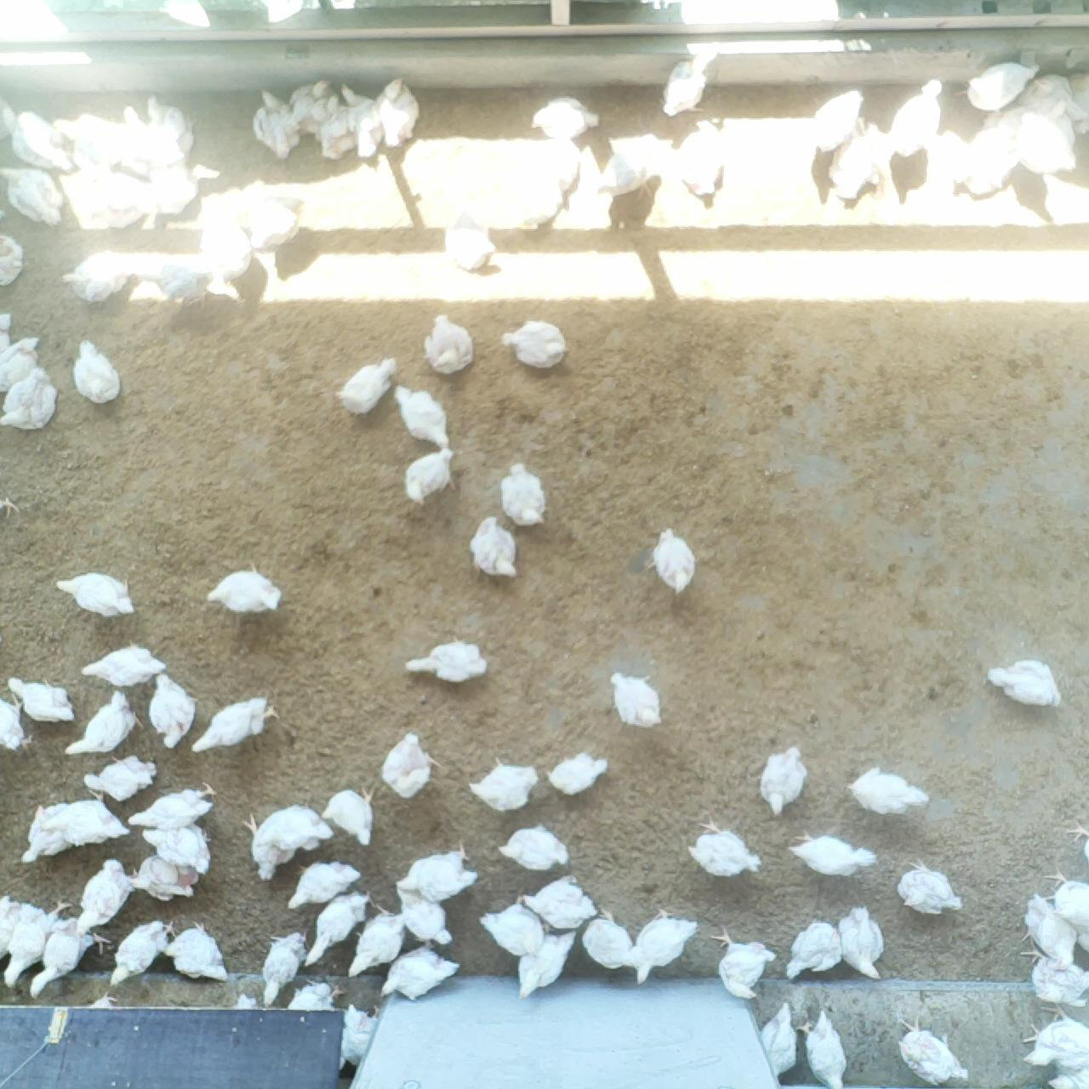chicken: (251, 805, 332, 882), (31, 921, 105, 997), (3, 905, 65, 988), (900, 1015, 970, 1086), (67, 691, 140, 759), (192, 699, 277, 755), (636, 907, 697, 984), (396, 849, 481, 903), (306, 894, 368, 967), (887, 80, 943, 160), (672, 117, 724, 203), (2, 103, 69, 168), (593, 140, 663, 200), (953, 123, 1012, 194), (126, 783, 215, 830), (1, 163, 65, 228), (716, 927, 773, 999), (506, 160, 566, 227), (380, 946, 461, 995), (1014, 109, 1075, 174), (787, 832, 875, 877), (845, 770, 929, 817), (110, 921, 169, 987), (662, 46, 716, 118), (687, 824, 760, 877), (77, 861, 129, 935), (349, 911, 407, 977), (528, 136, 586, 200), (830, 126, 880, 200), (517, 879, 594, 927), (381, 735, 436, 802), (54, 573, 134, 619), (530, 95, 603, 145), (442, 212, 498, 277), (337, 86, 384, 163), (801, 1007, 845, 1089), (1024, 897, 1076, 966), (240, 188, 296, 252), (989, 661, 1062, 710), (1018, 77, 1088, 128), (583, 906, 637, 972), (140, 826, 214, 874), (470, 757, 537, 809), (207, 568, 282, 614), (164, 931, 230, 983), (199, 220, 257, 279), (394, 385, 450, 445), (518, 936, 574, 996), (841, 907, 885, 983), (897, 864, 961, 916), (970, 63, 1037, 112), (83, 646, 167, 685), (133, 164, 201, 212), (55, 113, 117, 165), (408, 641, 488, 681), (150, 676, 194, 748), (395, 890, 451, 946), (1032, 953, 1089, 1008), (1, 372, 55, 430), (1028, 1012, 1089, 1063), (8, 677, 77, 722), (57, 800, 126, 845), (63, 256, 130, 302), (761, 750, 807, 817), (287, 866, 357, 910), (73, 167, 126, 225), (503, 322, 567, 370), (499, 828, 570, 871), (145, 98, 195, 159), (74, 341, 123, 403), (480, 904, 542, 953), (261, 934, 305, 1003), (337, 360, 394, 413), (375, 75, 418, 145), (24, 804, 74, 864), (252, 93, 297, 159), (813, 91, 858, 157), (788, 923, 842, 978), (342, 1006, 386, 1073), (423, 316, 474, 373), (84, 760, 153, 802), (760, 1005, 797, 1083), (134, 859, 199, 903), (403, 448, 452, 505), (653, 528, 696, 592), (150, 264, 208, 311), (612, 674, 662, 728), (1055, 870, 1089, 949), (501, 464, 545, 524), (328, 789, 372, 849), (471, 519, 516, 575), (549, 755, 610, 795), (294, 81, 334, 138), (120, 108, 153, 174), (320, 100, 356, 160), (1, 336, 40, 391), (1046, 1057, 1089, 1089), (1, 233, 27, 285), (1, 698, 26, 752), (292, 985, 334, 1009), (2, 898, 17, 955)
